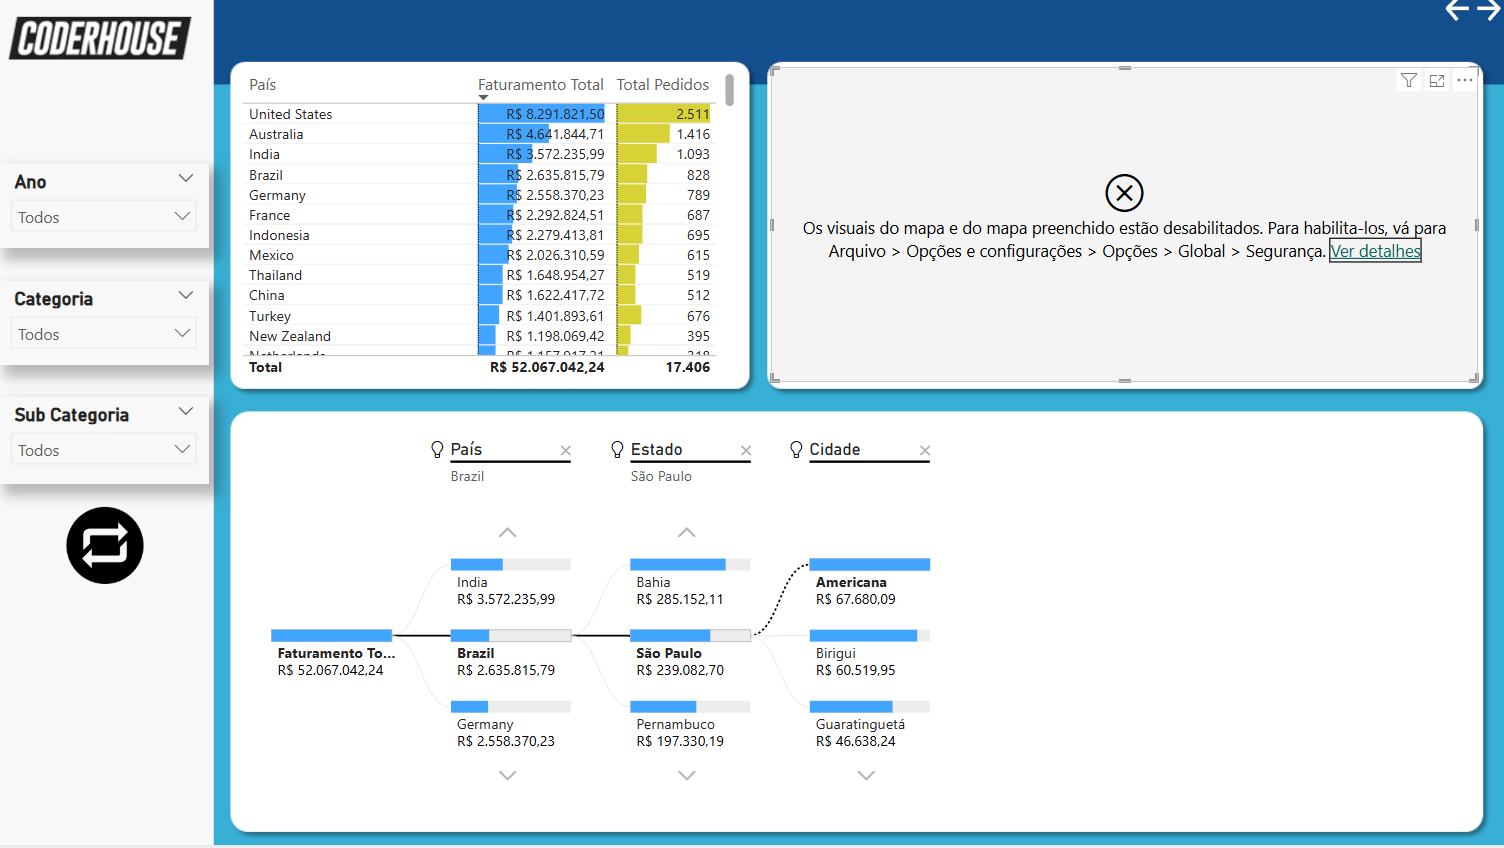

What the dashboard file says about the page in this screenshot:
{"tool":"powerbi","page":{"name":"Visão por região","canvas":[1280,720],"ordinal":2},"visuals":[{"type":"tableEx","fields":{"Values":["dEndereço.país","Medidas.Faturamento Total","Medidas.Total Pedidos"]},"box":[206.6,63,425.6,265.1],"z":0},{"type":"map","fields":{"Category":["dEndereço.país"],"Size":["Medidas.Faturamento Total"]},"box":[658.2,62.7,596.4,265.5],"z":1000},{"type":"slicer","fields":{"Values":["dCalendariOo.Ano"]},"box":[6.5,145.5,177.3,70.9],"z":2000},{"type":"slicer","fields":{"Values":["DProdutos.categoria"]},"box":[6.5,243.6,177.3,70.9],"z":3000},{"type":"slicer","fields":{"Values":["DProdutos.sub_categoria"]},"box":[6.5,341.8,177.3,72.7],"z":4000},{"type":"actionButton","box":[1843.3,0,55,40],"z":5000},{"type":"actionButton","box":[1876.7,0,43.3,40],"z":6000},{"type":"decompositionTreeVisual","fields":{"ExplainBy":["dEndereço.País","dEndereço.Estado","dEndereço.Cidade"],"Analyze":["Medidas.Faturamento Total"]},"box":[206.4,360,1039.1,343.6],"z":7000},{"type":"image","box":[55.5,429.1,80,75.5],"z":8000},{"type":"actionButton","box":[1248.9,0,31.1,28.9],"z":9000},{"type":"actionButton","box":[1223.3,0,31.1,28.9],"z":10000}]}

Visuals, with their boxes in screenshot pixels (x1, y1, x2, y2):
tableEx - dEndereço.país x Medidas.Faturamento Total: rect(229, 60, 740, 378)
map - dEndereço.país x Medidas.Faturamento Total: rect(771, 60, 1488, 379)
slicer - dCalendariOo.Ano: rect(0, 159, 201, 244)
slicer - DProdutos.categoria: rect(0, 277, 201, 362)
slicer - DProdutos.sub_categoria: rect(0, 395, 201, 482)
decompositionTreeVisual - dEndereço.País x dEndereço.Estado: rect(228, 417, 1477, 830)
image: rect(47, 500, 143, 591)
actionButton: rect(1481, 0, 1503, 19)
actionButton: rect(1450, 0, 1487, 19)
